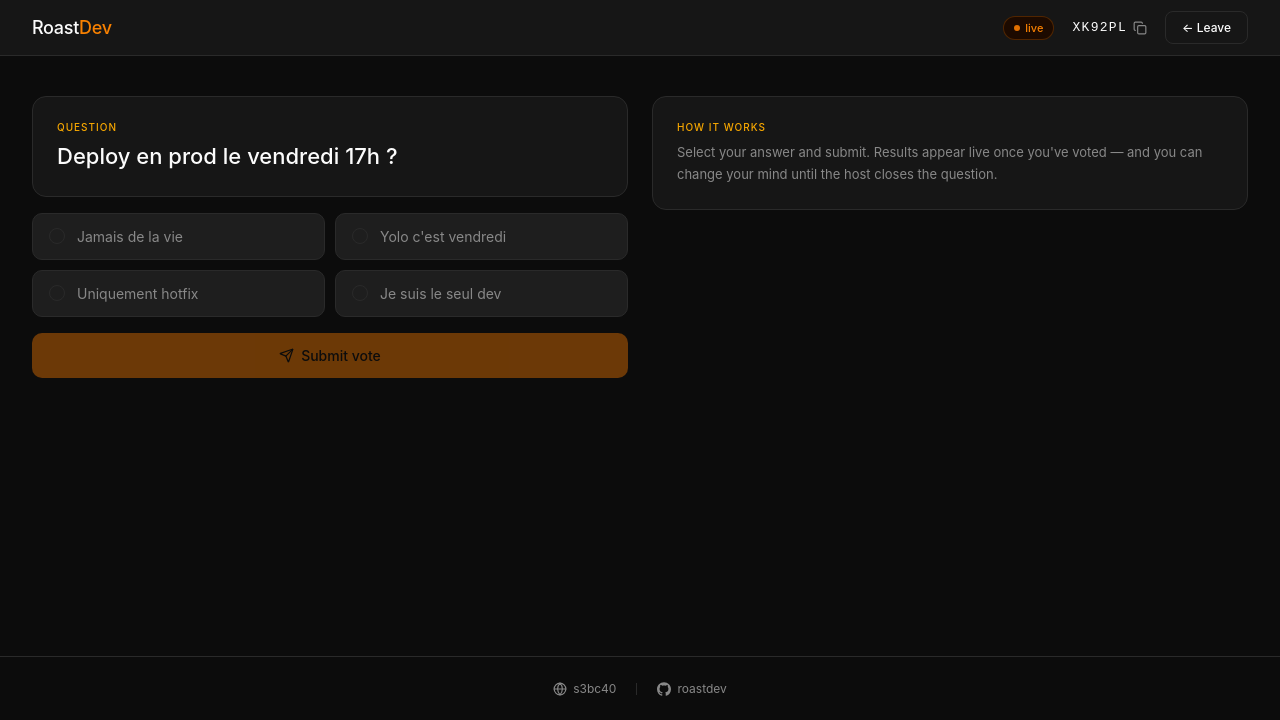
Test: Participant › waiting phase shows live results updated by vote_update
Click the text "Jamais de la vie" at (178, 236), box x1=32 y1=213 x2=325 y2=260
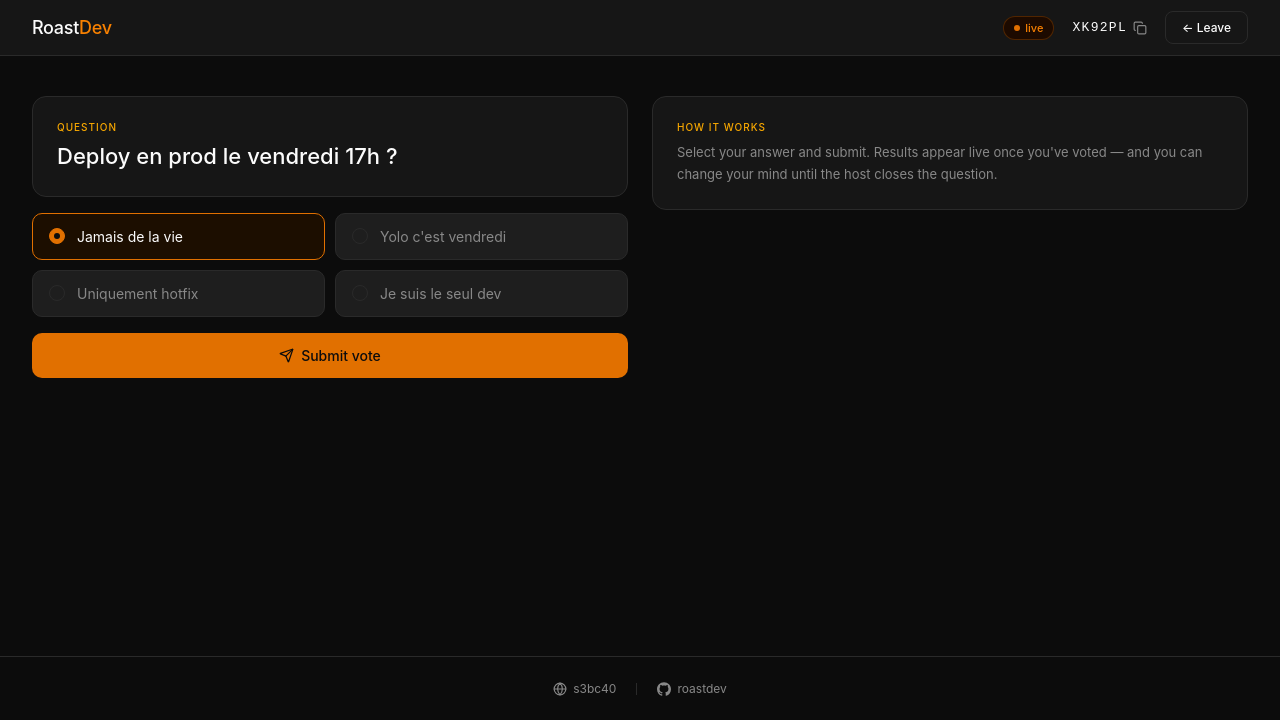
Click the button "Submit vote" at (330, 355), box x1=32 y1=333 x2=628 y2=378
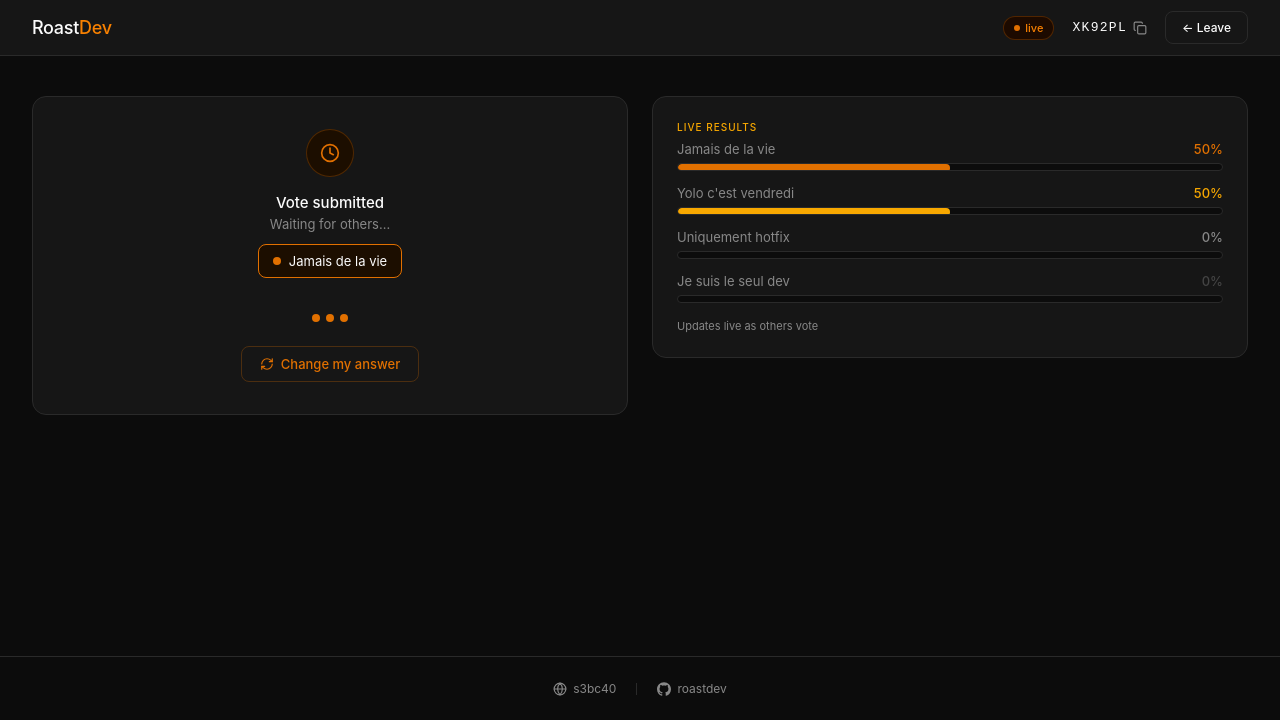
Check: the text "50%" is shown 2 times, box x1=1194 y1=141 x2=1223 y2=157; x1=1194 y1=185 x2=1223 y2=201
